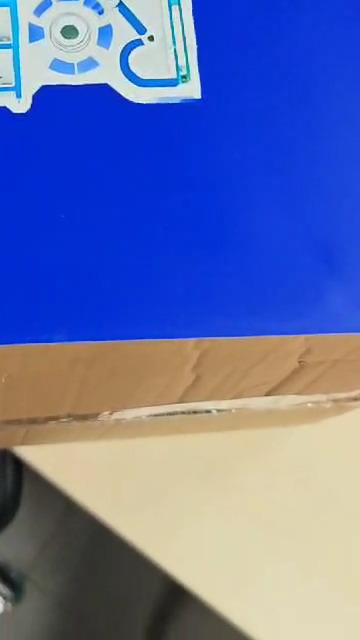B_R1: (0, 0, 343, 191)
